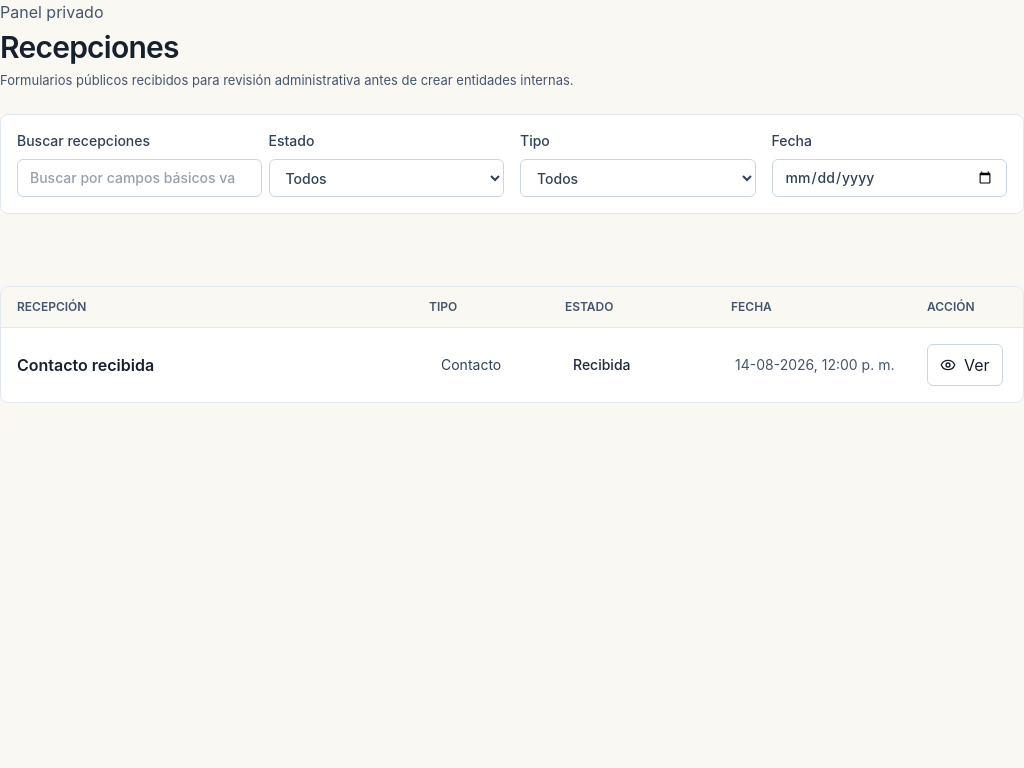
AdminFormSubmissions › starts review and shows duplicate contact candidates
The width and height of the screenshot is (1024, 768).
Click the button "Ver": (965, 365) [927, 344, 1003, 386]
(page scrolled)
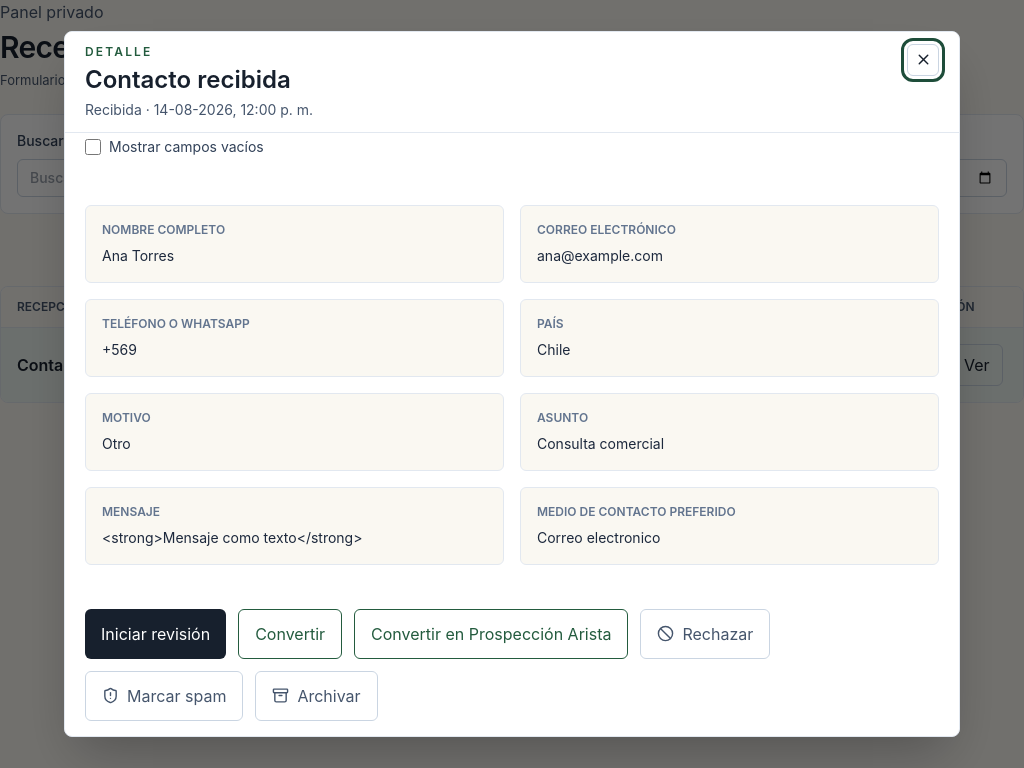
Click the button "Iniciar revisión": (156, 634) [85, 609, 226, 659]
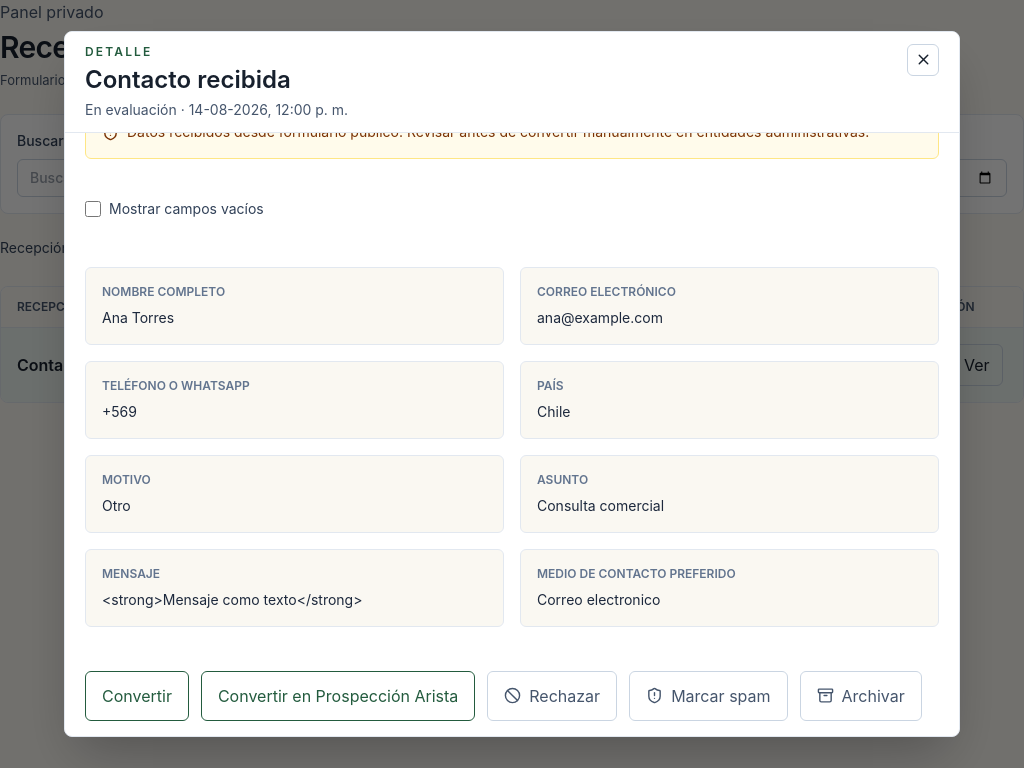
Click the button "Convertir": (137, 696) [85, 671, 189, 721]
(page scrolled)
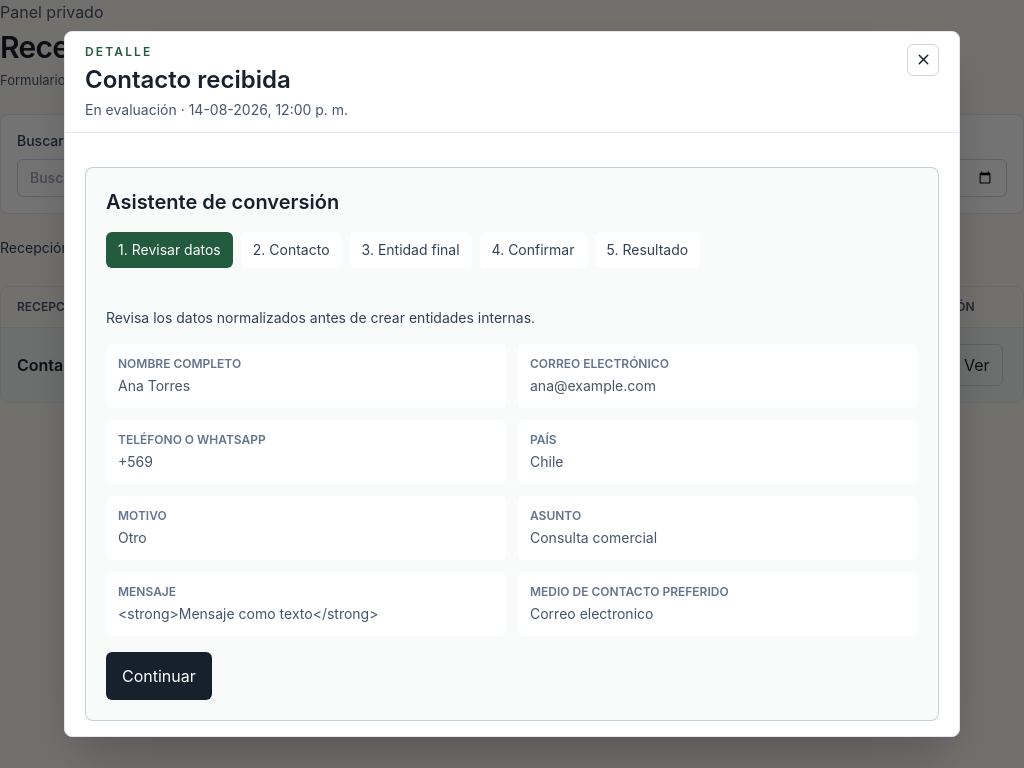
Click the button "Continuar": (159, 676) [106, 652, 212, 700]
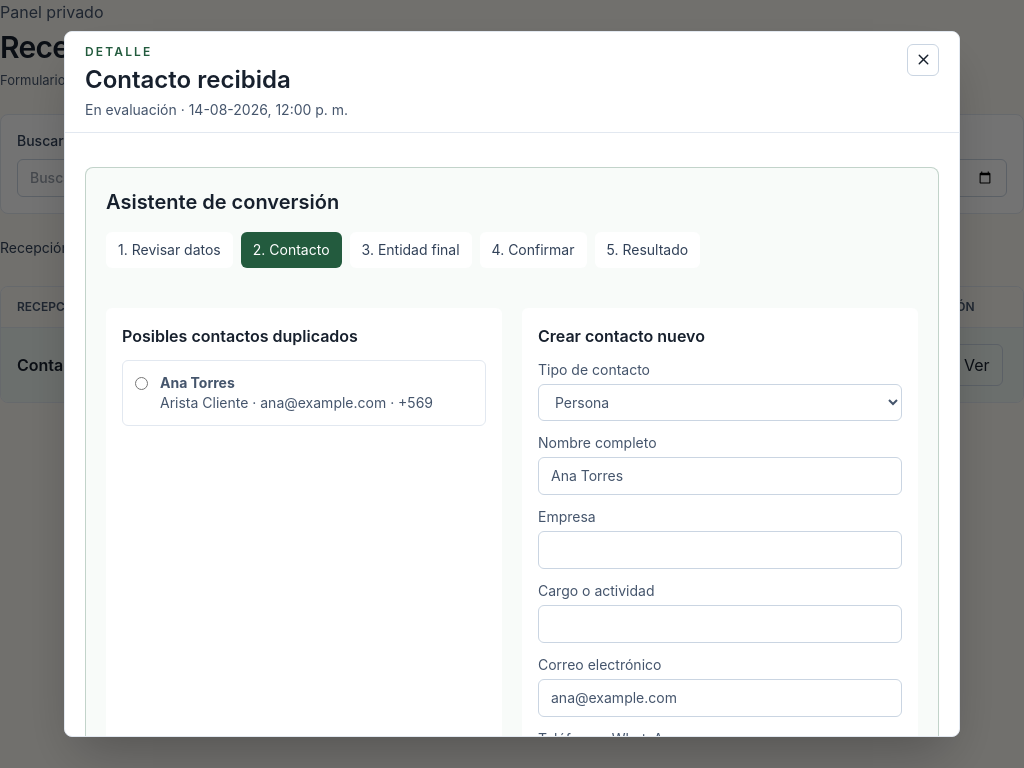
Expected: the heading "Posibles contactos duplicados" is shown, [122, 326, 358, 346]
Expected: the text "Arista Cliente" is shown, [160, 394, 433, 411]
